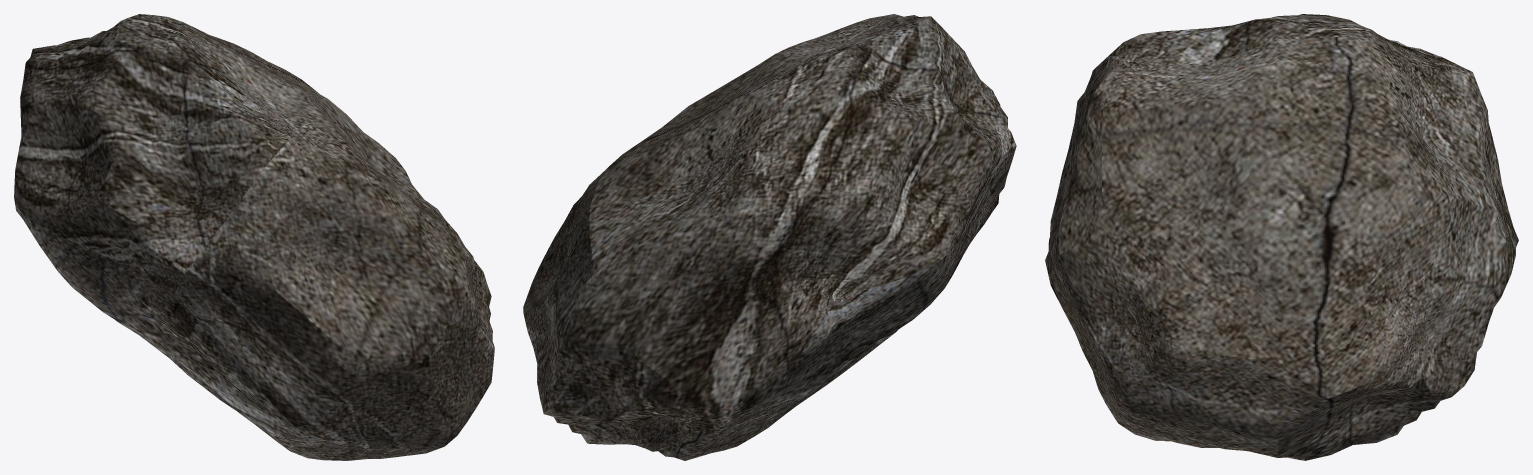
Rendered from Piedra2.fbx.
3 views of the same model, side by side, from view 1: azimuth 30°, elevation 25°; view 2: azimuth 150°, elevation 25°; view 3: azimuth 270°, elevation 25° (orthographic). The views are drawn at different scales.
Visible parts, largest first — view 1: Cube.003; view 2: Cube.003; view 3: Cube.003.
Boxes of the visible parts, x1,y1,x2,y2 form: Cube.003: (14,14,494,460); Cube.003: (523,14,1016,460); Cube.003: (1045,14,1518,460).
Size of the model in its own units: 51.4 by 48.08 by 58.64.
1 material, 1 textured.
